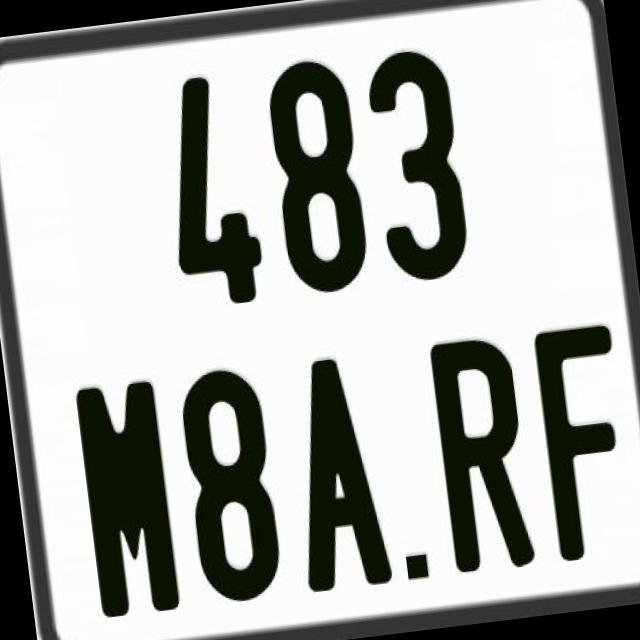3: (364, 43, 478, 282)
4: (152, 70, 268, 312)
8: (262, 52, 380, 301), (172, 365, 284, 610)
A: (278, 354, 396, 594)
F: (532, 320, 640, 566)
M: (72, 375, 180, 621)
R: (428, 331, 534, 579)
